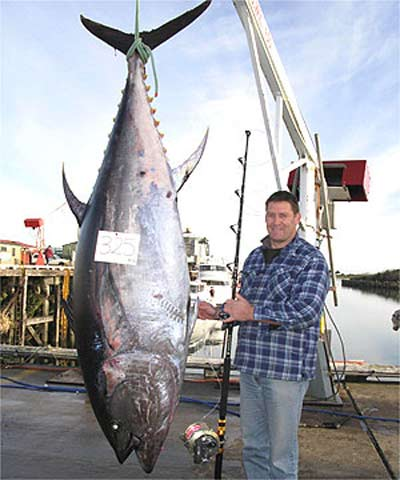Bluefina Tuna: (70, 10, 198, 471)
